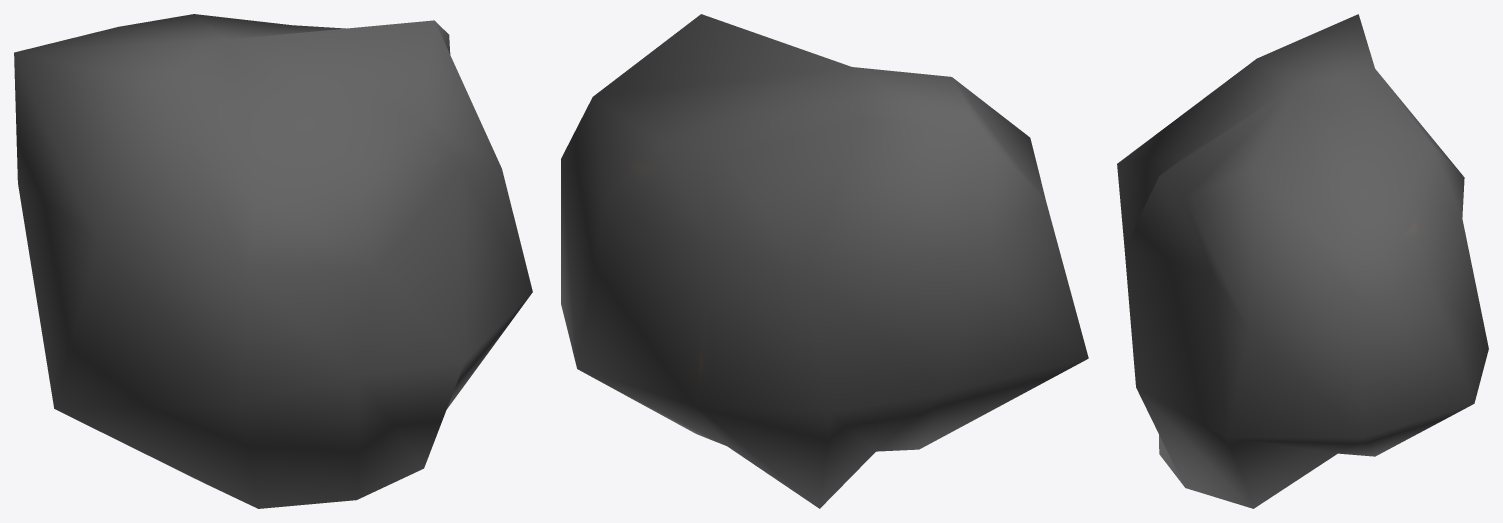
The model's file is asteroid1.FBX.
3 views of the same model, side by side, from view 1: azimuth 30°, elevation 25°; view 2: azimuth 150°, elevation 25°; view 3: azimuth 270°, elevation 25° (orthographic). The views are drawn at different scales.
Visible parts, largest first — view 1: Sphere001; view 2: Sphere001; view 3: Sphere001.
Boxes of the visible parts, x1,y1,x2,y2 form: Sphere001: (14,14,532,508); Sphere001: (561,14,1088,508); Sphere001: (1117,14,1488,508).
Size of the model in its own units: 18.12 by 15.02 by 14.52.
